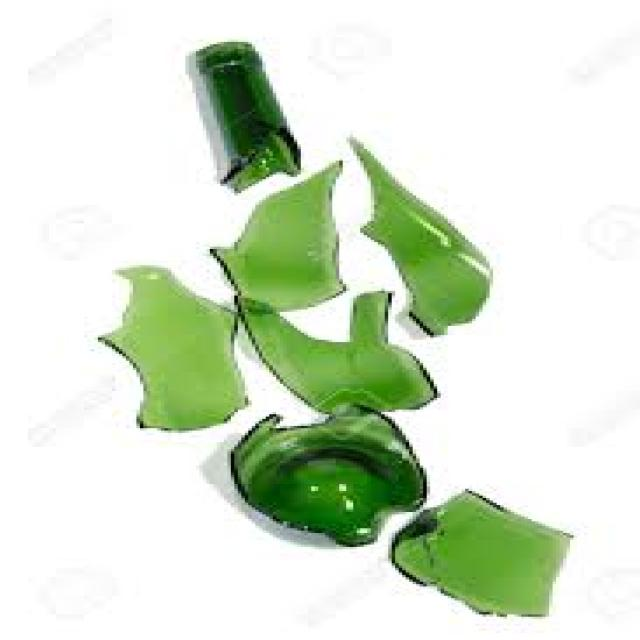glass: (339, 133, 490, 333), (220, 403, 427, 545), (231, 286, 437, 410), (94, 263, 245, 431), (385, 489, 570, 617), (206, 158, 343, 314), (182, 37, 301, 189)
